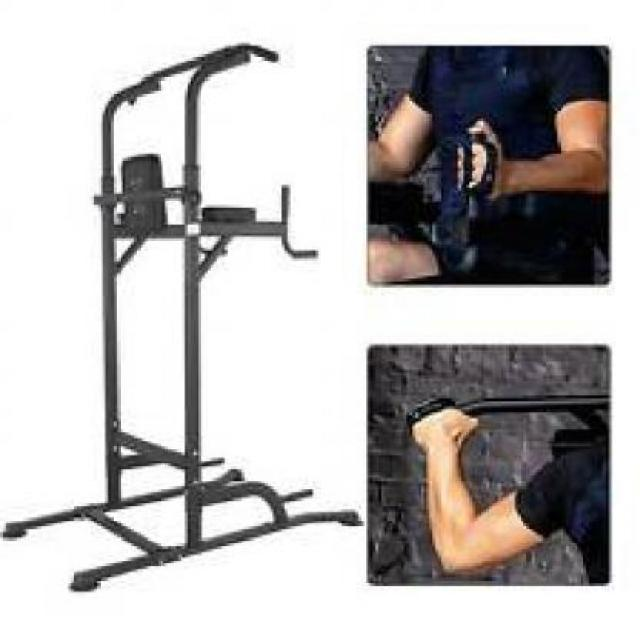chinning dipping: (5, 43, 360, 594)
